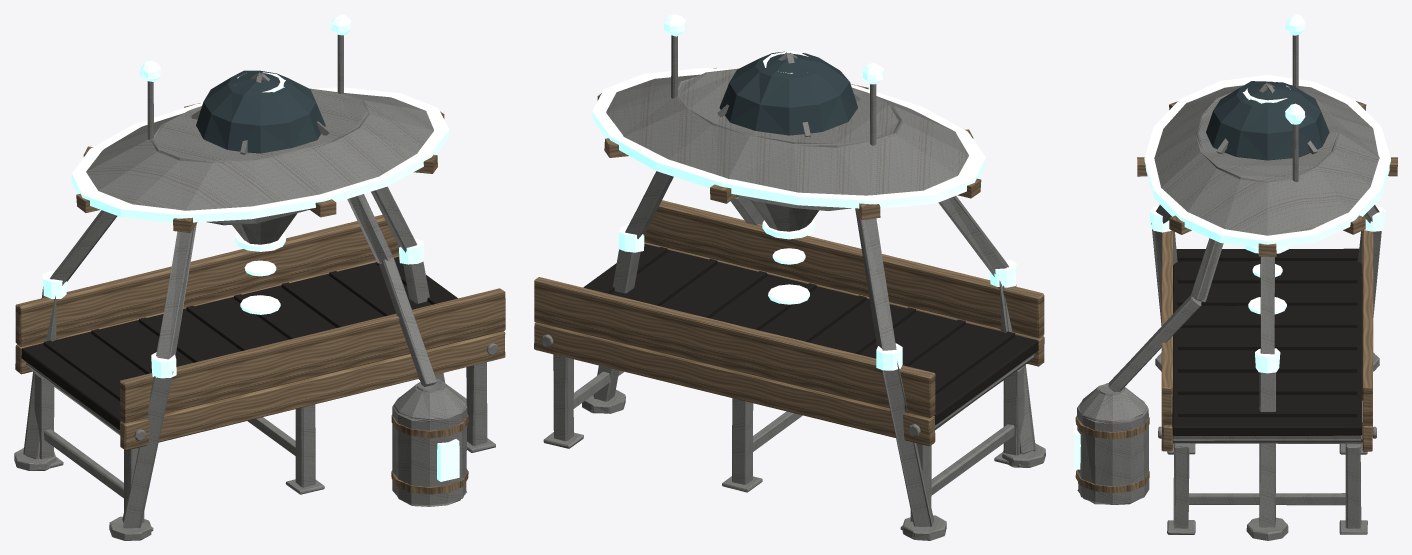
The model's file is alien_collector.glb.
3 renders of one model, left to right at view 1: azimuth 30°, elevation 25°; view 2: azimuth 150°, elevation 25°; view 3: azimuth 270°, elevation 25°, orthographic. The views are drawn at different scales.
Parts seen in each view (by area): view 1: AlienCollector, Belt; view 2: AlienCollector, Belt; view 3: AlienCollector, Belt, Roller2.
Boxes of the visible parts, x1,y1,x2,y2 form: AlienCollector: (14, 14, 505, 540); Belt: (21, 256, 457, 429); AlienCollector: (534, 14, 1045, 540); Belt: (583, 244, 1038, 424); AlienCollector: (1074, 14, 1397, 540); Belt: (1172, 248, 1362, 435); Roller2: (1172, 422, 1362, 443).
Bounding box in the file's own units: 3.47 × 3.43 × 2.58.
Materials: 5 (2 with a texture image).
